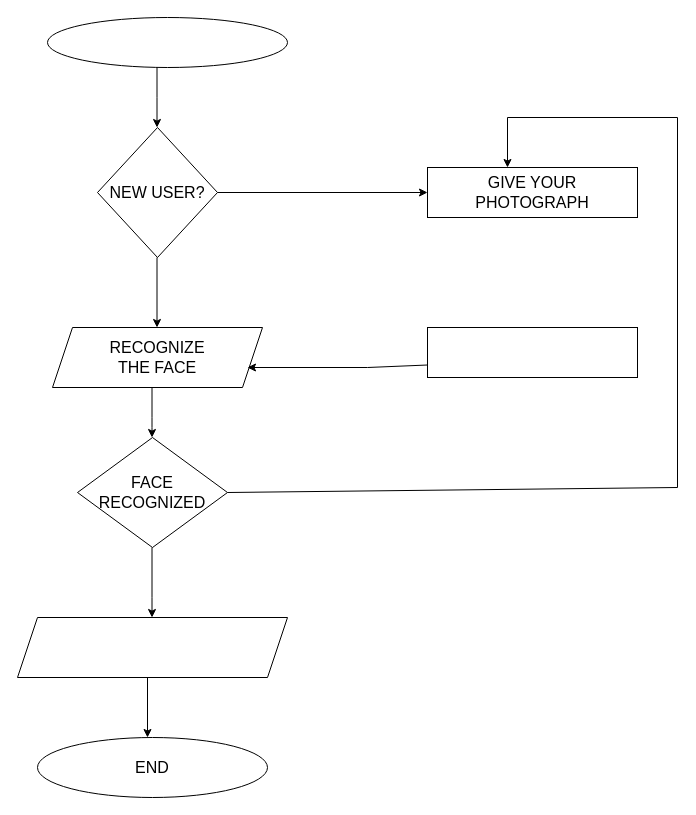
This 696x815 diagram has some shape labels left out. Each missing label, with the box of its shape:
START: (46, 16, 288, 68)
STORAGE IN CSVV FILE WITH REGISTRATION NUMBER & DATA TIME OF ENTRY: (16, 616, 288, 678)
